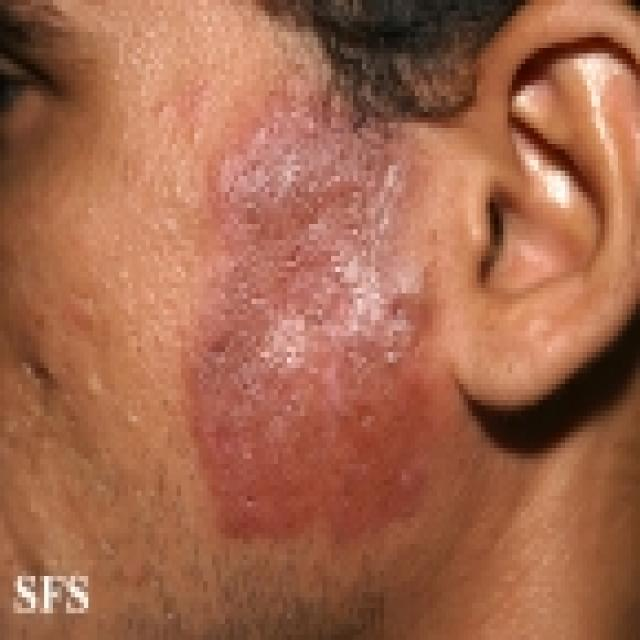lupus: (170, 108, 460, 555)
